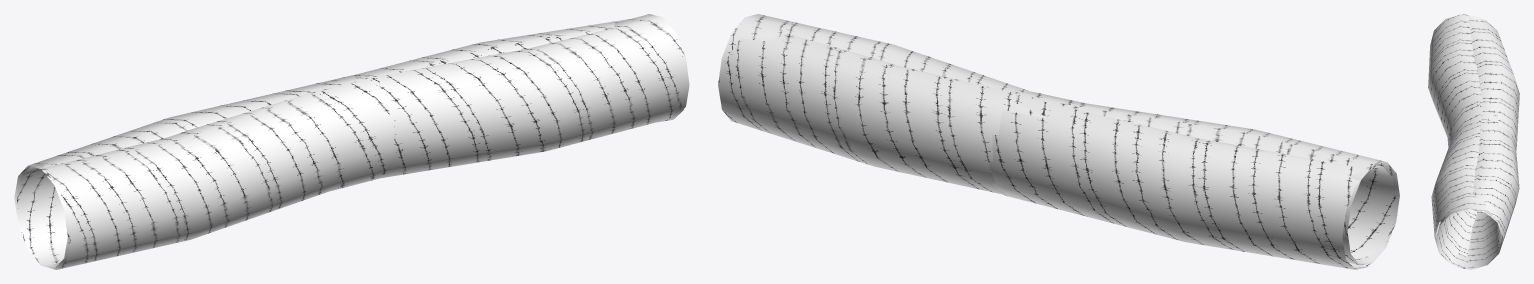
Rendered from barbwire_2.obj.
3 views of the same model, side by side, from view 1: azimuth 30°, elevation 25°; view 2: azimuth 150°, elevation 25°; view 3: azimuth 270°, elevation 25° (orthographic). The views are drawn at different scales.
Visible parts, largest first — view 1: barbwire; view 2: barbwire; view 3: barbwire.
Boxes of the visible parts, box(x1,y1,x2,y2) form: barbwire: box(14, 14, 689, 269); barbwire: box(718, 14, 1399, 269); barbwire: box(1428, 14, 1519, 269).
Bounding box in the file's own units: 86.92 × 13.51 × 17.5.
Materials: 1 (1 with a texture image).
